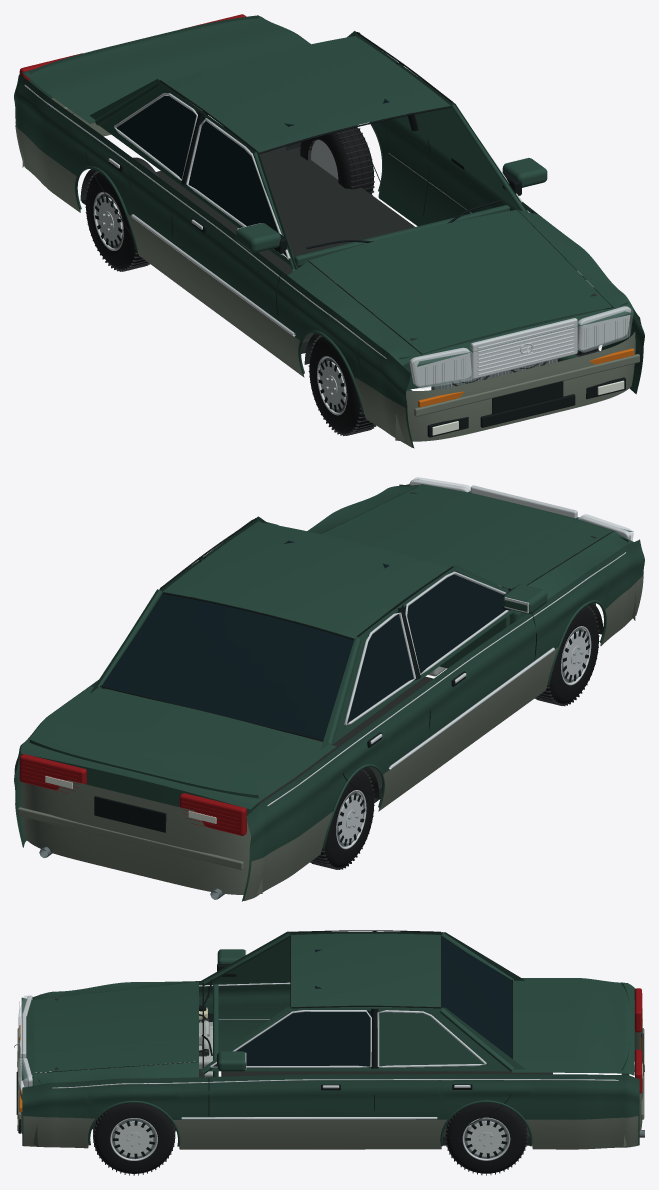
Rendered from lexus-ls-ucf10.glb.
The picture shows the model from 3 angles, top to bottom: view 1: azimuth 30°, elevation 25°; view 2: azimuth 150°, elevation 25°; view 3: azimuth 270°, elevation 25°; orthographic projection. The views are drawn at different scales.
Visible parts, largest first — view 1: hood, body-side--1, roof, trunk, floor, lower-cladding--1, body-side-1, front-bumper, front-door-glass--1, rear-door-glass--1, cabin-side-1, fender-top--1 (+26 smaller); view 2: rear-glass, trunk, body-side--1, roof, hood, rear-bumper, lower-cladding--1, front-door-glass--1, rear-door-glass--1, cabin-side--1, rear-upper-fascia, fender-top--1 (+21 smaller); view 3: body-side-1, lower-cladding-1, hood, trunk, roof, cabin-side-1, front-door-glass-1, rear-glass, body-side--1, wheel-0-1-tyre, wheel-1-1-tyre, cabin-side--1 (+19 smaller).
Boxes of the visible parts, x1,y1,x2,y2 form: hood: (309, 210, 611, 353); body-side--1: (14, 74, 414, 448); roof: (164, 36, 450, 152); trunk: (21, 15, 309, 123); floor: (81, 144, 414, 353); lower-cladding--1: (15, 122, 412, 447); body-side-1: (262, 17, 644, 394); front-bumper: (395, 332, 635, 441); front-door-glass--1: (188, 117, 286, 256); rear-door-glass--1: (116, 92, 198, 179); cabin-side-1: (347, 31, 527, 212); fender-top--1: (288, 261, 421, 365); rear-glass: (101, 594, 353, 739); trunk: (21, 686, 336, 809); body-side--1: (242, 539, 644, 901); roof: (162, 522, 448, 638); hood: (321, 484, 612, 588); rear-bumper: (22, 780, 262, 894); lower-cladding--1: (244, 575, 643, 900); front-door-glass--1: (404, 572, 505, 673); rear-door-glass--1: (344, 611, 413, 726); cabin-side--1: (320, 564, 514, 750); rear-upper-fascia: (29, 739, 258, 815); fender-top--1: (527, 531, 633, 599); body-side-1: (22, 1074, 639, 1145); lower-cladding-1: (23, 1116, 638, 1149); hood: (34, 981, 198, 1072); trunk: (512, 978, 634, 1075); roof: (291, 933, 440, 1007); cabin-side-1: (199, 1007, 525, 1071); front-door-glass-1: (214, 1010, 371, 1066); rear-glass: (441, 937, 511, 1058); body-side--1: (32, 981, 635, 1052); wheel-0-1-tyre: (93, 1103, 174, 1173); wheel-1-1-tyre: (446, 1102, 526, 1173); cabin-side--1: (199, 931, 524, 982).
Size of the model in its own units: 2.15 by 1.43 by 5.04.
